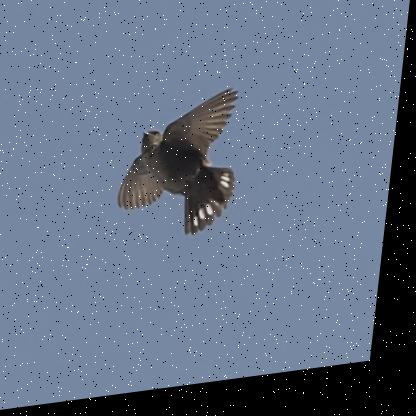Burung: (119, 92, 250, 248)
